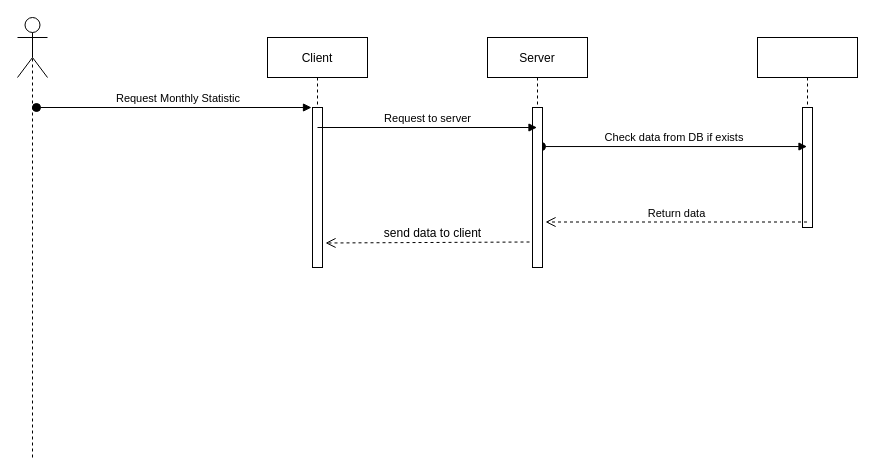
Image size: 875x476. Some labels were removed from this diagram. Here are the shapes that lost their labels. From the top down, the centre of each, then its label:
At point (32, 47): "User".
At point (807, 122): "DB".
